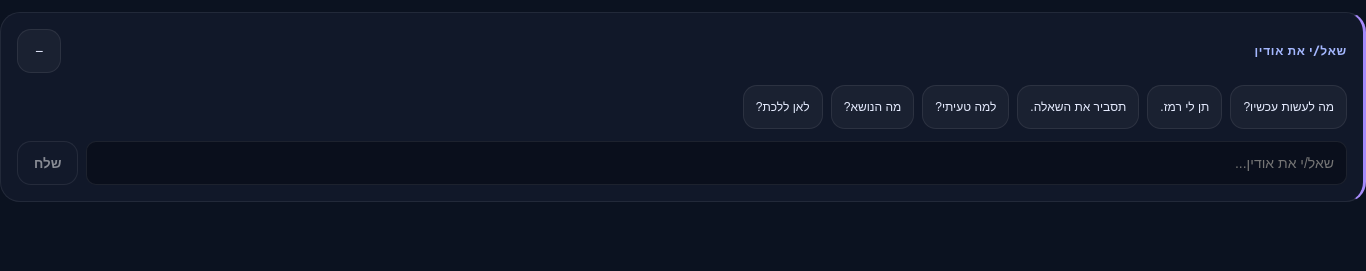
it: AskOdinPanel (general educational assistant pass) › free-text input › recognizes a known intent phrase and answers exactly like the matching button
Type "תן לי רמז" into the field with test id "ask-odin-free-text-input" at coordinates (717, 163), box [86,141,1347,185]
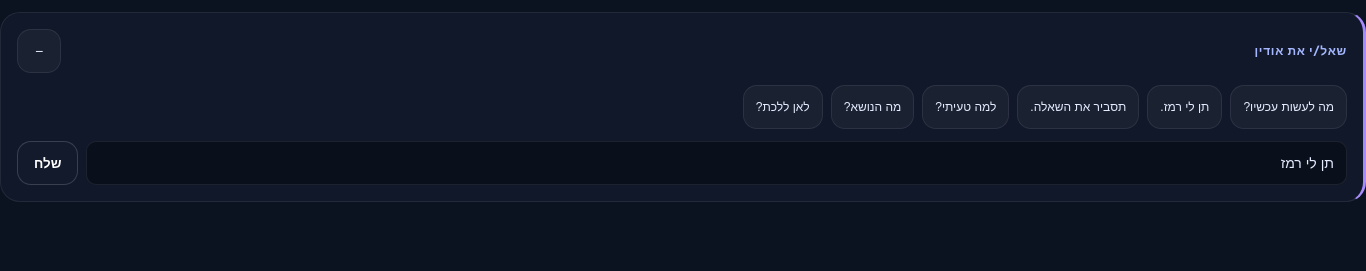
Click the button with test id "ask-odin-free-text-submit" at coordinates (48, 163), box [17,141,78,185]
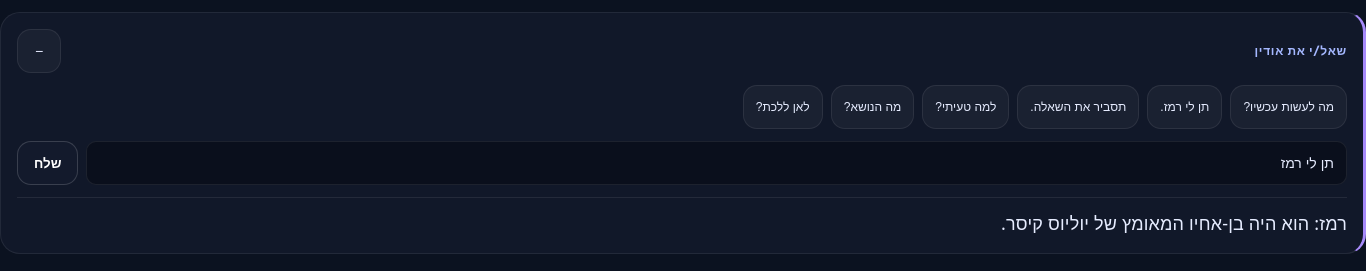
Expected: the text with test id "ask-odin-answer" reads "רמז: הוא היה בן-אחיו המאומץ של יוליוס קיסר.", [1001,211,1347,235]
